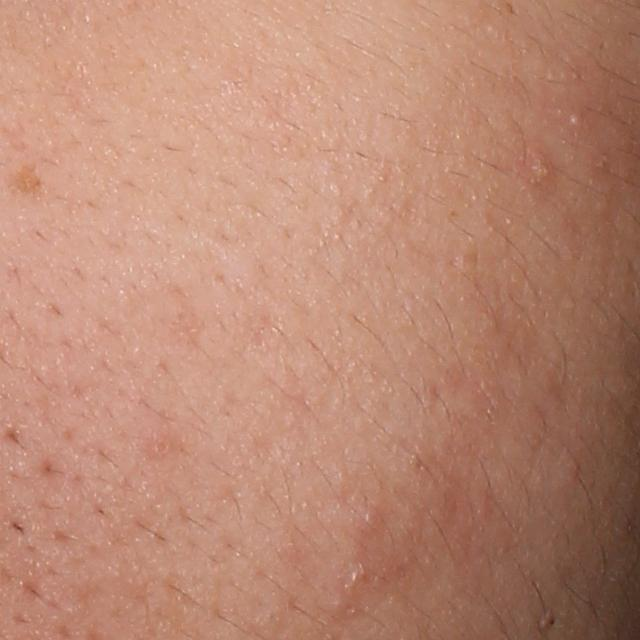comedo: (360, 501, 385, 528), (154, 433, 176, 454)
